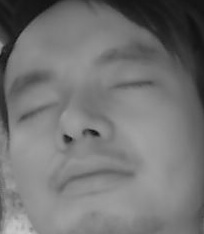blink: (13, 100, 58, 122), (112, 75, 152, 95)
mouth: (51, 151, 135, 203)
